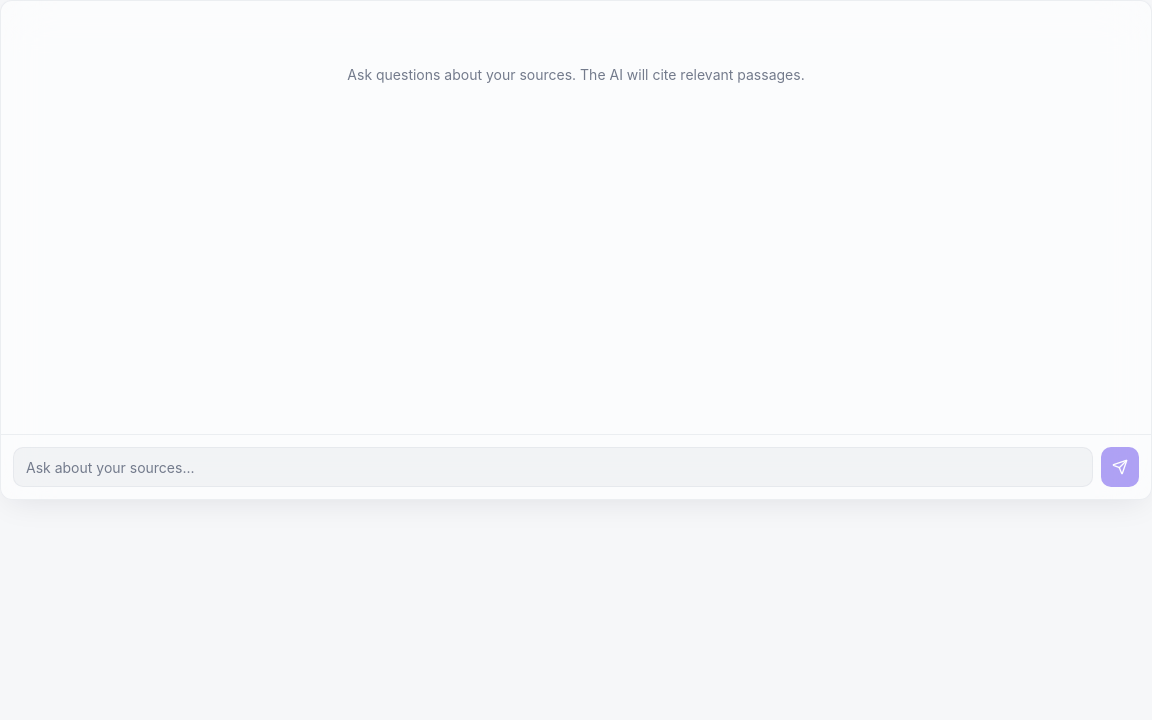
Test: ResourceChat component › enables send when input has text
Step 1. Type "What is AI?" into the field with placeholder "Ask about your sources..." → (553, 467), box [13, 447, 1093, 487]
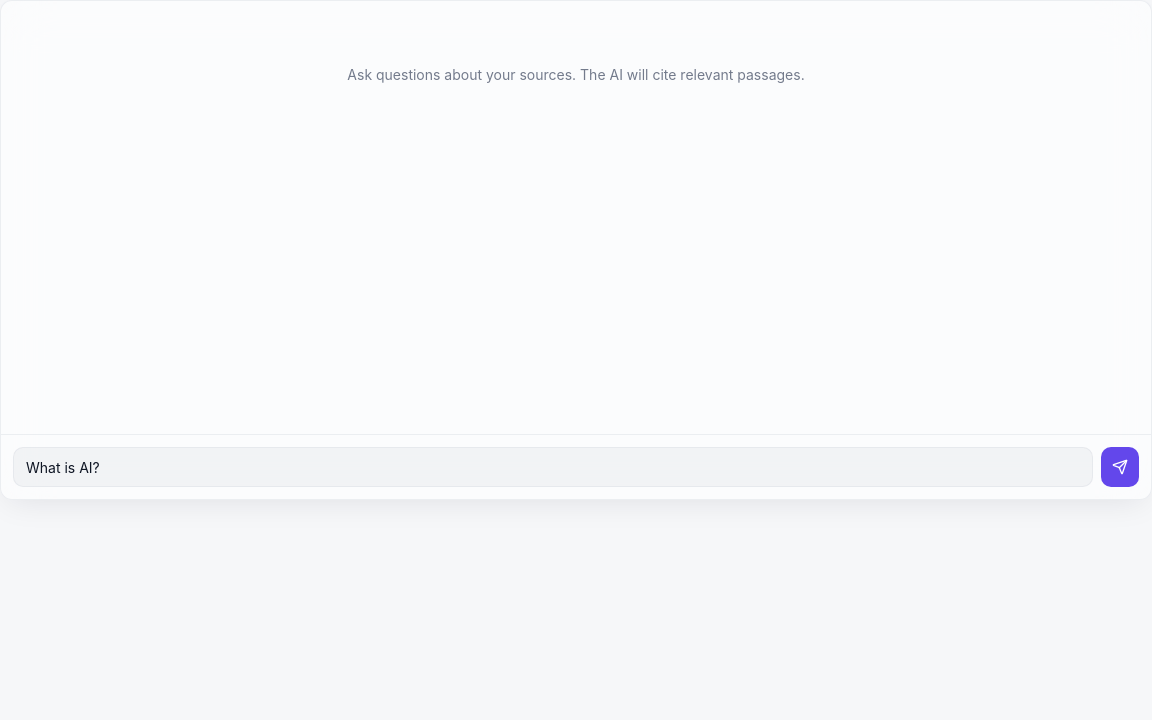
Check: the button is enabled, box [1101, 447, 1139, 487]
